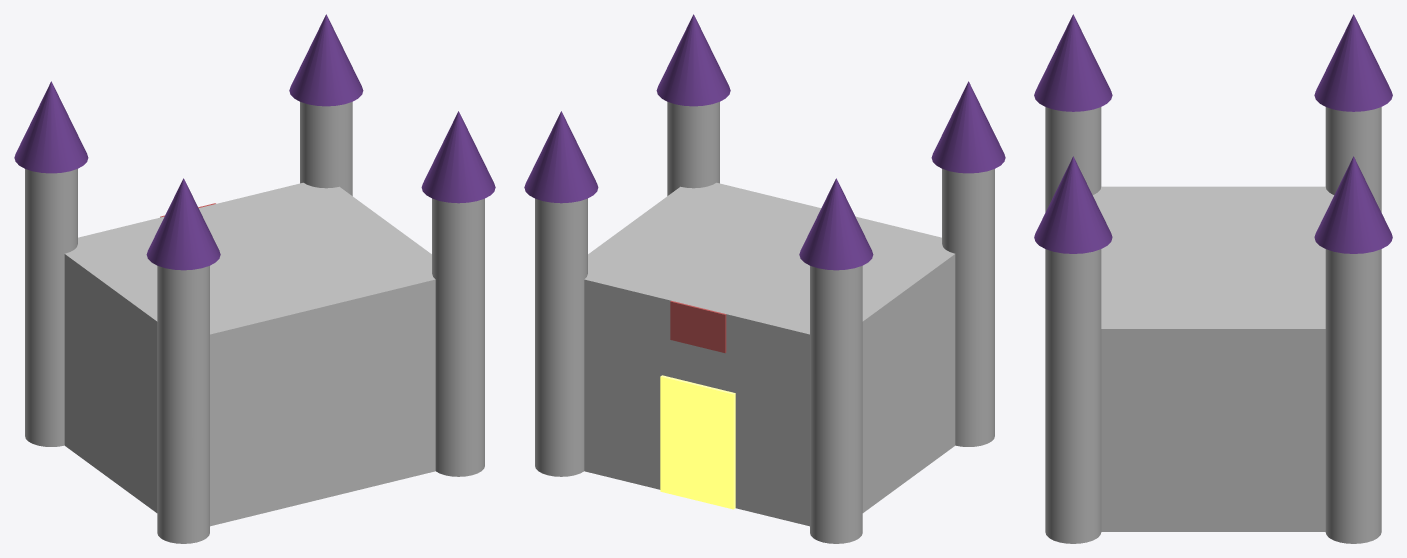
Rendered from castle.glb.
3 renders of one model, left to right at view 1: azimuth 30°, elevation 25°; view 2: azimuth 150°, elevation 25°; view 3: azimuth 270°, elevation 25°, orthographic. The views are drawn at different scales.
Parts seen in each view (by area): view 1: body, tower_bl, tower_br, tower_fl, tower_fr, roof_fl, roof_br, roof_fr, roof_bl; view 2: body, tower_fl, tower_fr, tower_bl, gate, tower_br, roof_bl, roof_fr, roof_br, roof_fl, banner; view 3: body, tower_fr, tower_br, roof_fl, roof_bl, roof_fr, roof_br, tower_fl, tower_bl.
Part boxes in pixels (bbox=[...]): body: bbox=[64, 182, 435, 526]; tower_bl: bbox=[157, 266, 209, 543]; tower_br: bbox=[432, 198, 484, 476]; tower_fl: bbox=[25, 169, 77, 446]; tower_fr: bbox=[300, 102, 352, 195]; roof_fl: bbox=[14, 81, 88, 173]; roof_br: bbox=[421, 111, 495, 203]; roof_fr: bbox=[289, 14, 363, 106]; roof_bl: bbox=[146, 178, 220, 270]; body: bbox=[584, 182, 955, 526]; tower_fl: bbox=[810, 266, 862, 543]; tower_fr: bbox=[535, 198, 587, 476]; tower_bl: bbox=[942, 169, 994, 446]; gate: bbox=[660, 375, 735, 509]; tower_br: bbox=[667, 102, 719, 195]; roof_bl: bbox=[931, 81, 1005, 173]; roof_fr: bbox=[524, 111, 598, 203]; roof_br: bbox=[656, 14, 730, 106]; roof_fl: bbox=[799, 178, 873, 270]; banner: bbox=[670, 301, 726, 352]; body: bbox=[1093, 186, 1333, 531]; tower_fr: bbox=[1325, 249, 1381, 543]; tower_br: bbox=[1045, 249, 1101, 543]; roof_fl: bbox=[1314, 14, 1392, 111]; roof_bl: bbox=[1034, 14, 1112, 111]; roof_fr: bbox=[1314, 156, 1392, 253]; roof_br: bbox=[1034, 156, 1112, 253]; tower_fl: bbox=[1325, 107, 1381, 212]; tower_bl: bbox=[1045, 107, 1101, 212].
Size of the model in its own units: 3.7 by 3.7 by 3.2.
